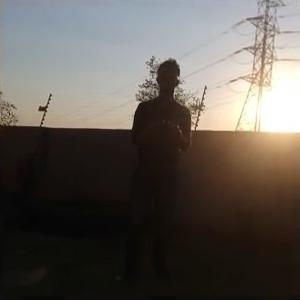follow: (114, 53, 192, 280)
